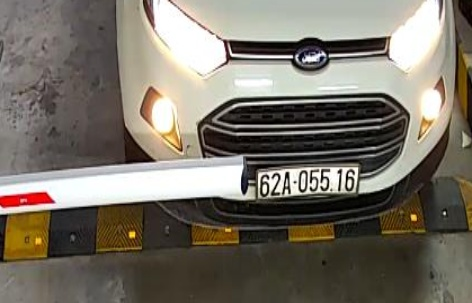plate: (253, 161, 364, 207)
